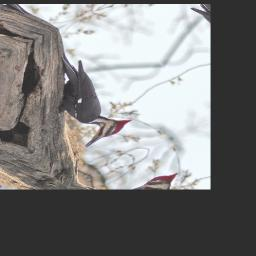Woodpecker: (19, 49, 137, 149)
